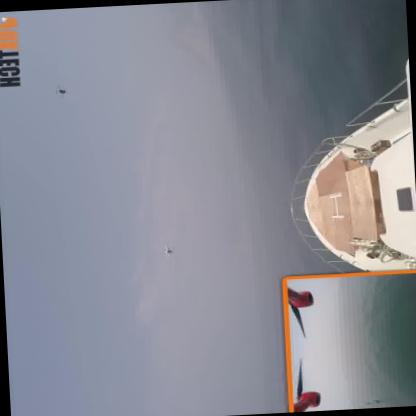drone: (157, 241, 178, 261), (52, 82, 71, 99)
